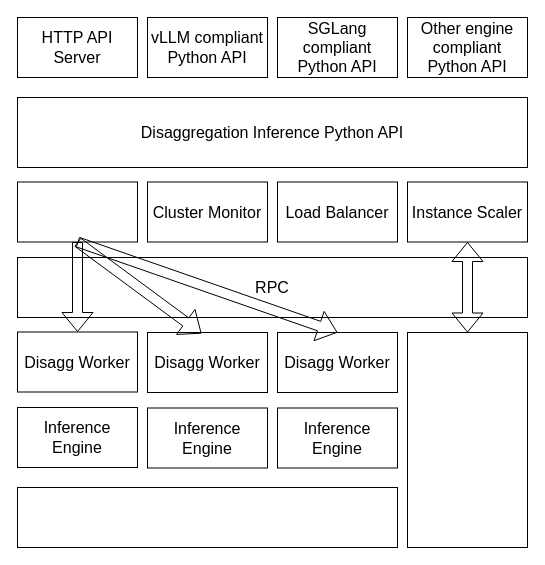
Some shapes in this 545 by 565 pixel diagram are drawn without their labels. Each missing label, with the centre of its shape:
"Cache Pool" goes at point 207,517.
"Disagg Proxy" goes at point 77,211.
"Resource Provider" goes at point 467,440.
